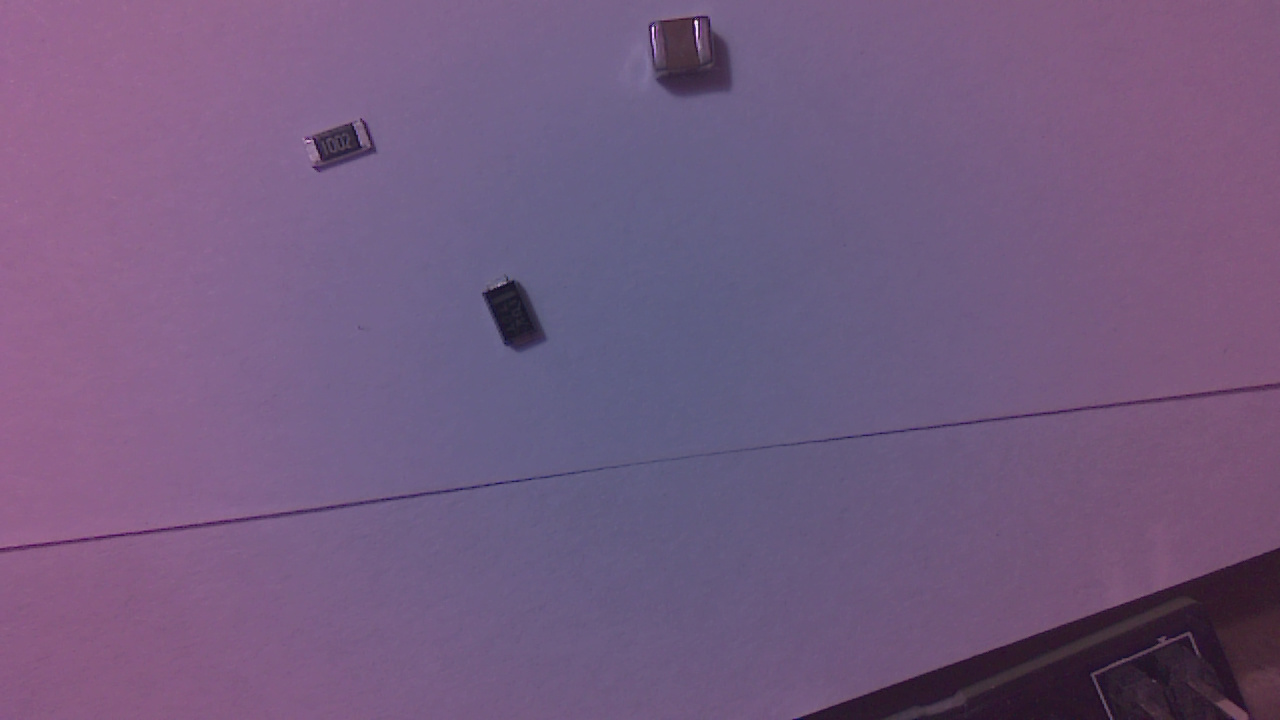Condensator: (653, 19, 725, 88)
Diode: (487, 280, 545, 352)
Resistor: (306, 122, 381, 177)
